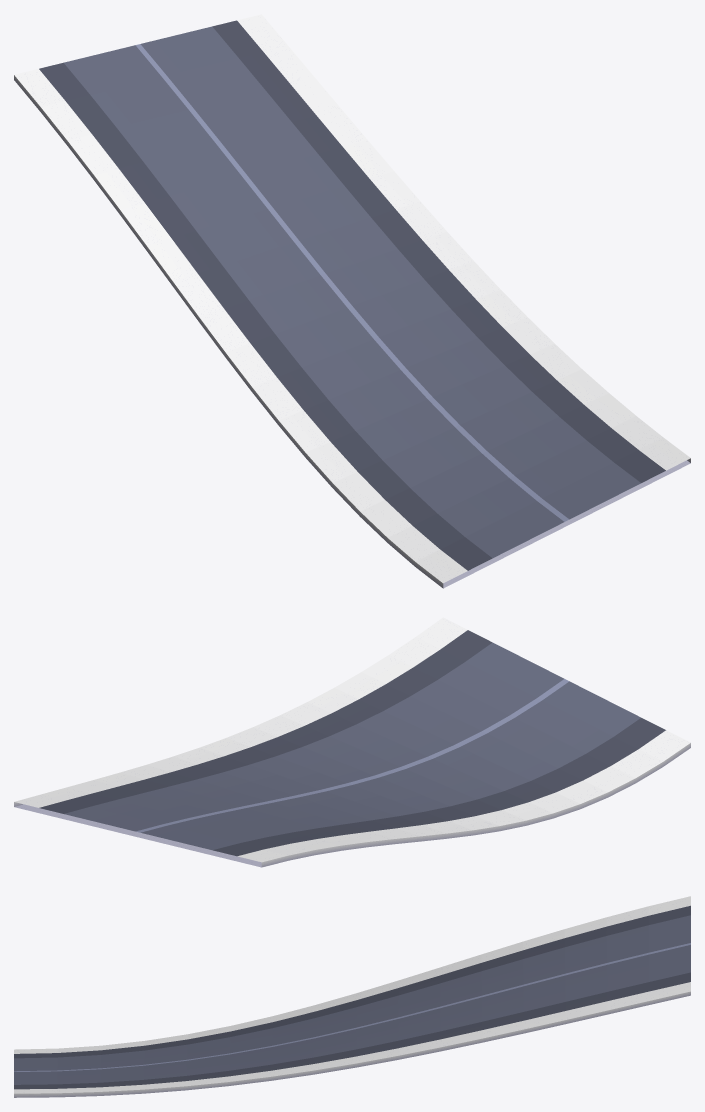
File: road-Straight-HalfBankedLeft-BiSlopeUp-Up3-Center-Size3.glb
The picture shows the model from 3 angles, top to bottom: view 1: azimuth 30°, elevation 25°; view 2: azimuth 150°, elevation 25°; view 3: azimuth 270°, elevation 25°; orthographic projection. The views are drawn at different scales.
Visible parts, largest first — view 1: road-Straight-HalfBankedLeft-BiSlopeUp-Up3-Center-Size3; view 2: road-Straight-HalfBankedLeft-BiSlopeUp-Up3-Center-Size3; view 3: road-Straight-HalfBankedLeft-BiSlopeUp-Up3-Center-Size3.
Boxes of the visible parts, bbox=[...] form: road-Straight-HalfBankedLeft-BiSlopeUp-Up3-Center-Size3: bbox=[14, 14, 690, 588]; road-Straight-HalfBankedLeft-BiSlopeUp-Up3-Center-Size3: bbox=[14, 617, 690, 867]; road-Straight-HalfBankedLeft-BiSlopeUp-Up3-Center-Size3: bbox=[14, 896, 690, 1097].
Size of the model in its own units: 1 by 0.77 by 3.
Materials: 1 (1 with a texture image).
